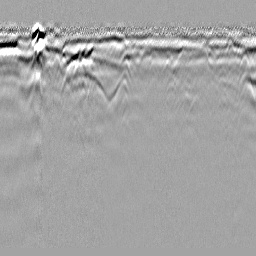cavity: (121, 50, 135, 65)
